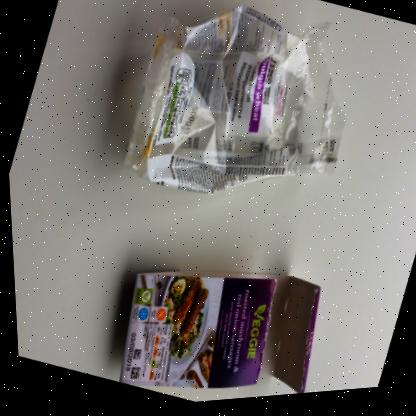Paper: (115, 274, 317, 398)
Plastic: (122, 9, 344, 198)
